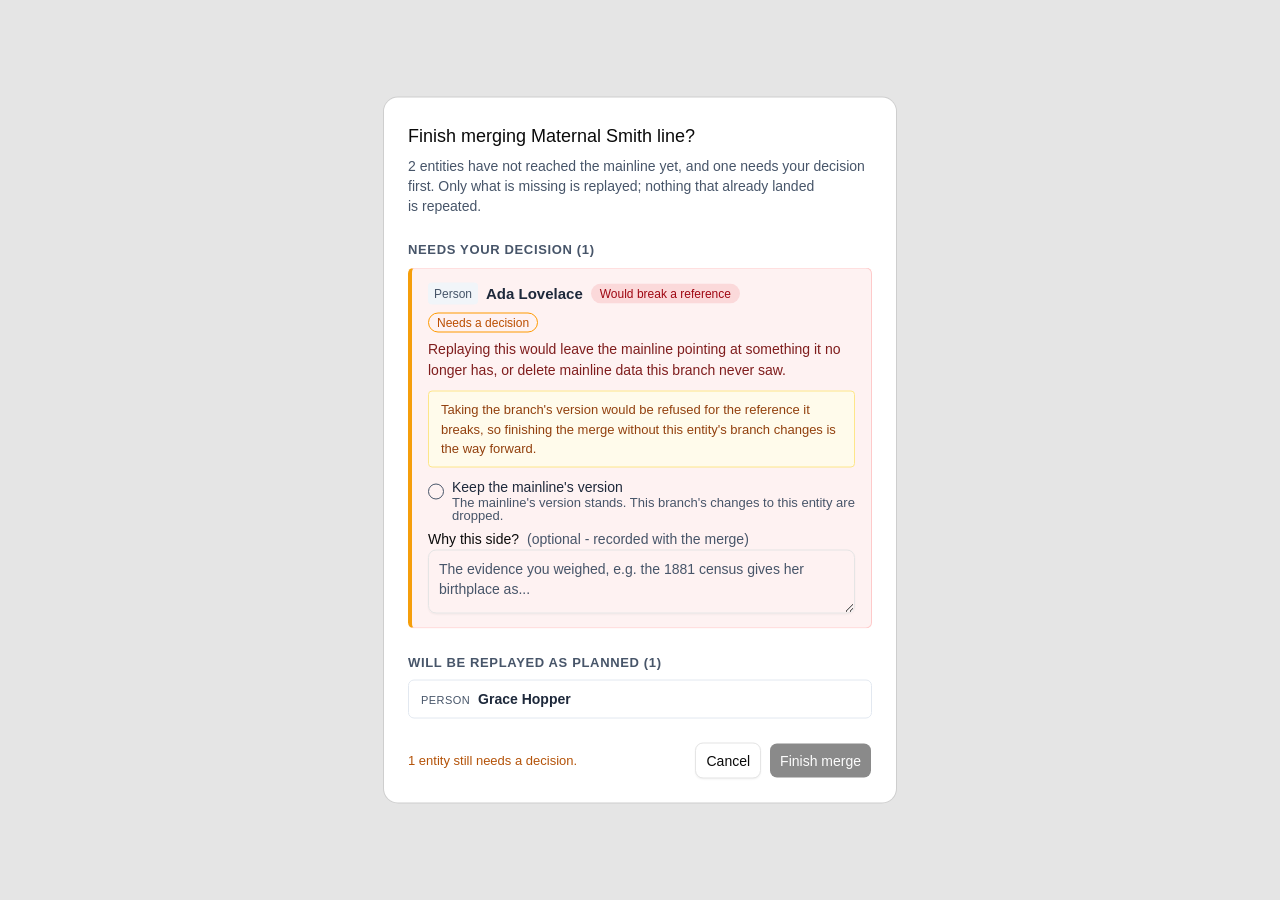
Test case: FinishMergeDialog › shows the server message for a validation refusal and keeps deciding
Click the radio button at (436, 491), box [428, 483, 444, 499]
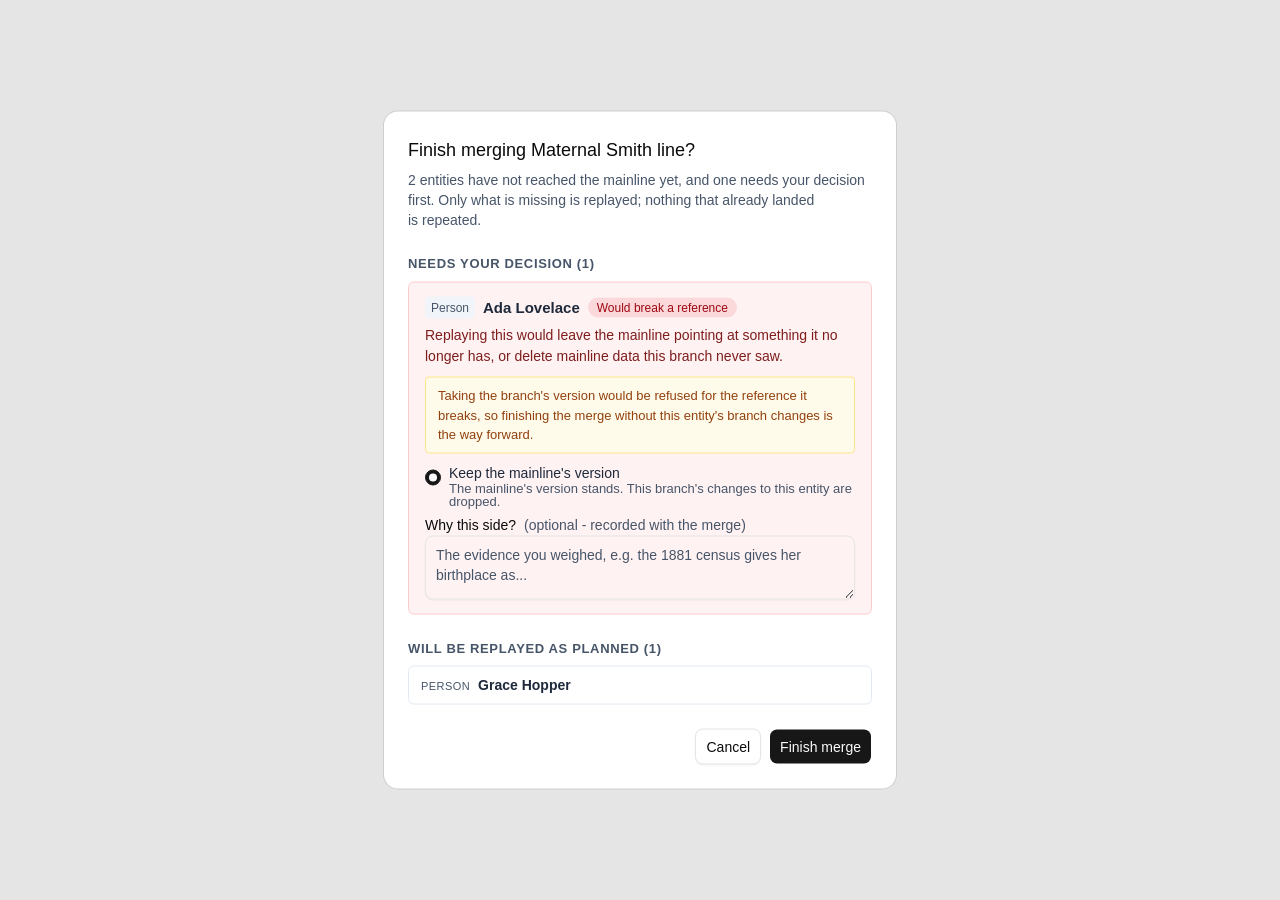
Click the button "Finish merge" at (821, 746), box [769, 728, 872, 764]
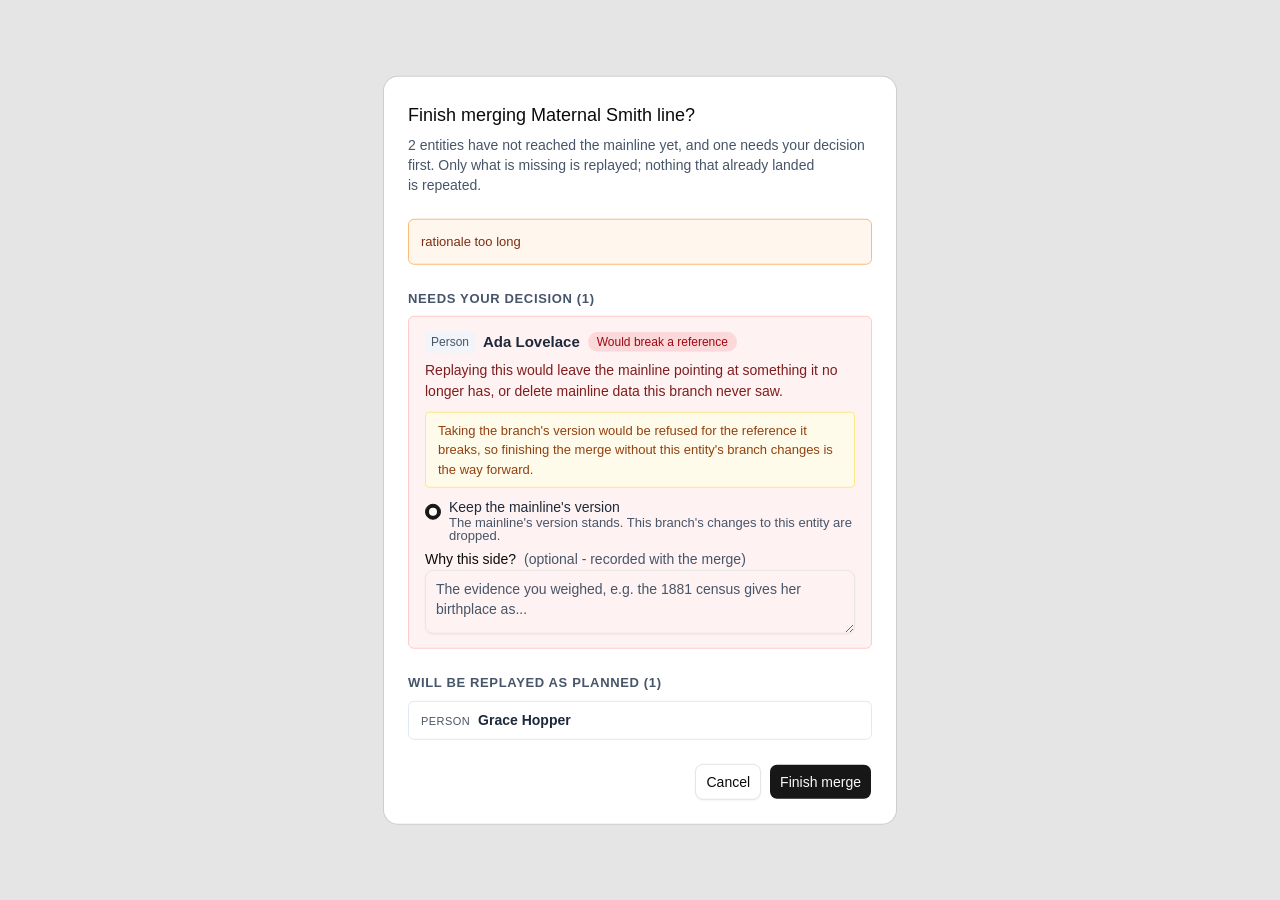
Result: the text "rationale too long" is shown at [421, 234, 521, 249]
